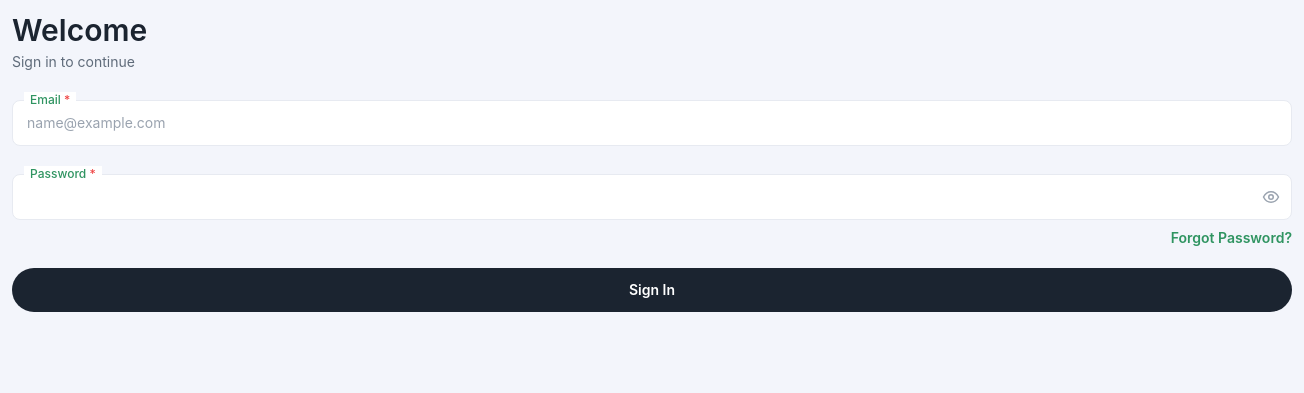
LoginForm (spec 2.1.1) › surfaces the inactive-account message (spec 2.1.1.5)
The width and height of the screenshot is (1304, 393).
In the field labelled "Email *": (652, 123) [12, 100, 1292, 146], type "john.smith@example.com"
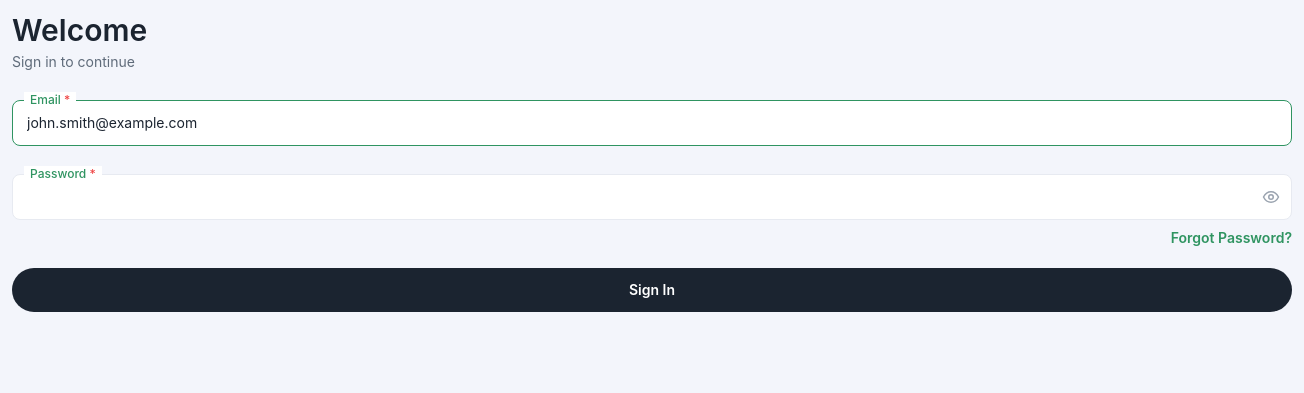
In the password field labelled "Password *": (652, 197) [12, 174, 1292, 220], type "Sup3rSecret!"
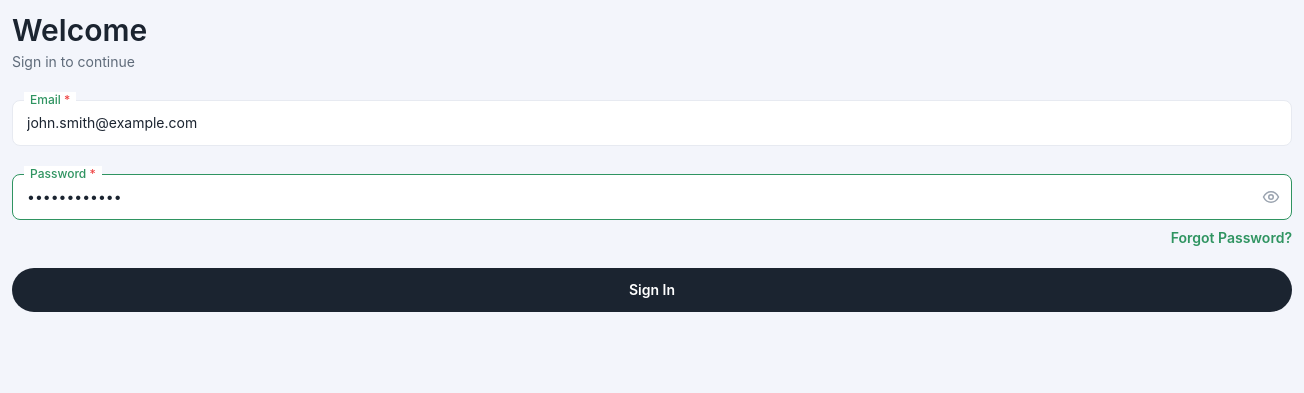
Click the button "Sign In": (652, 290) [12, 268, 1292, 312]
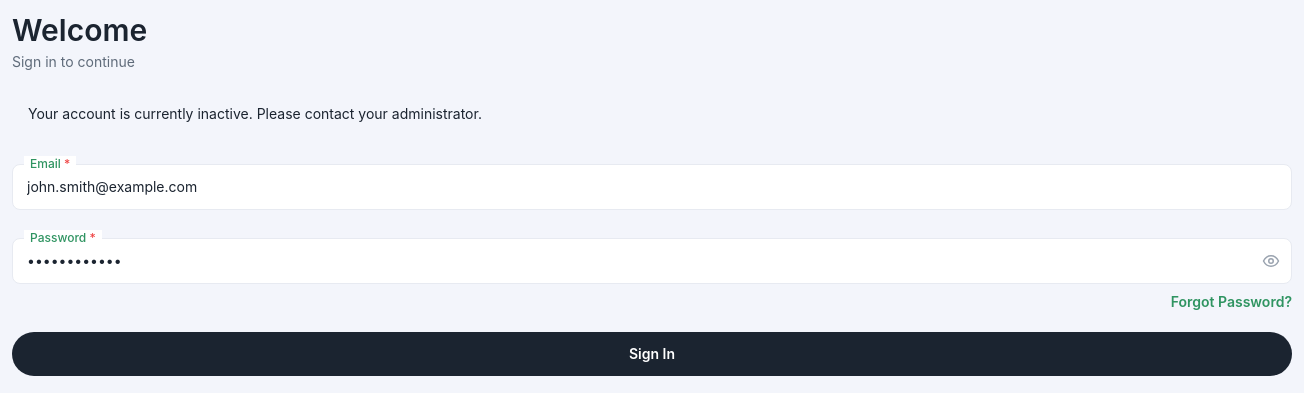
Expected: the text "Your account is currently inactive. Please contact your administrator." is shown, [28, 105, 482, 122]
